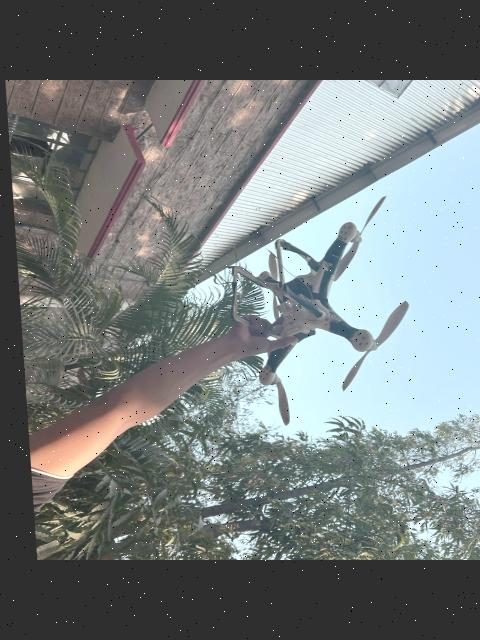drone: (210, 188, 413, 430)
